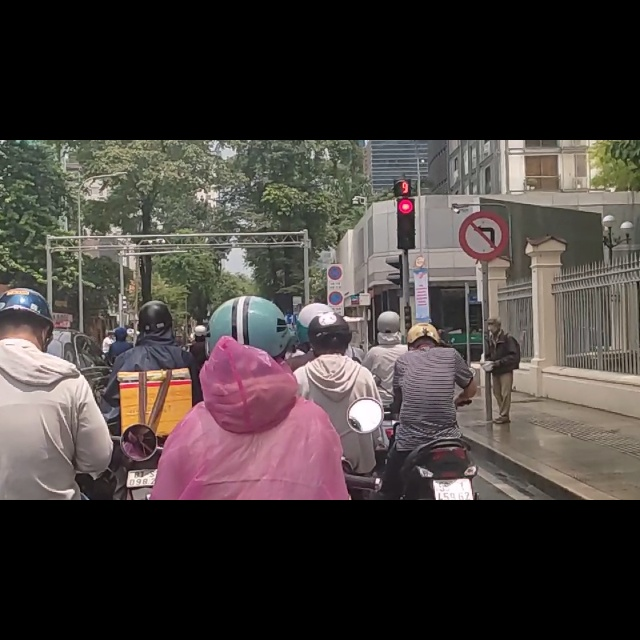bien_cam: (458, 124, 509, 211), (327, 220, 343, 249), (327, 268, 343, 296)
